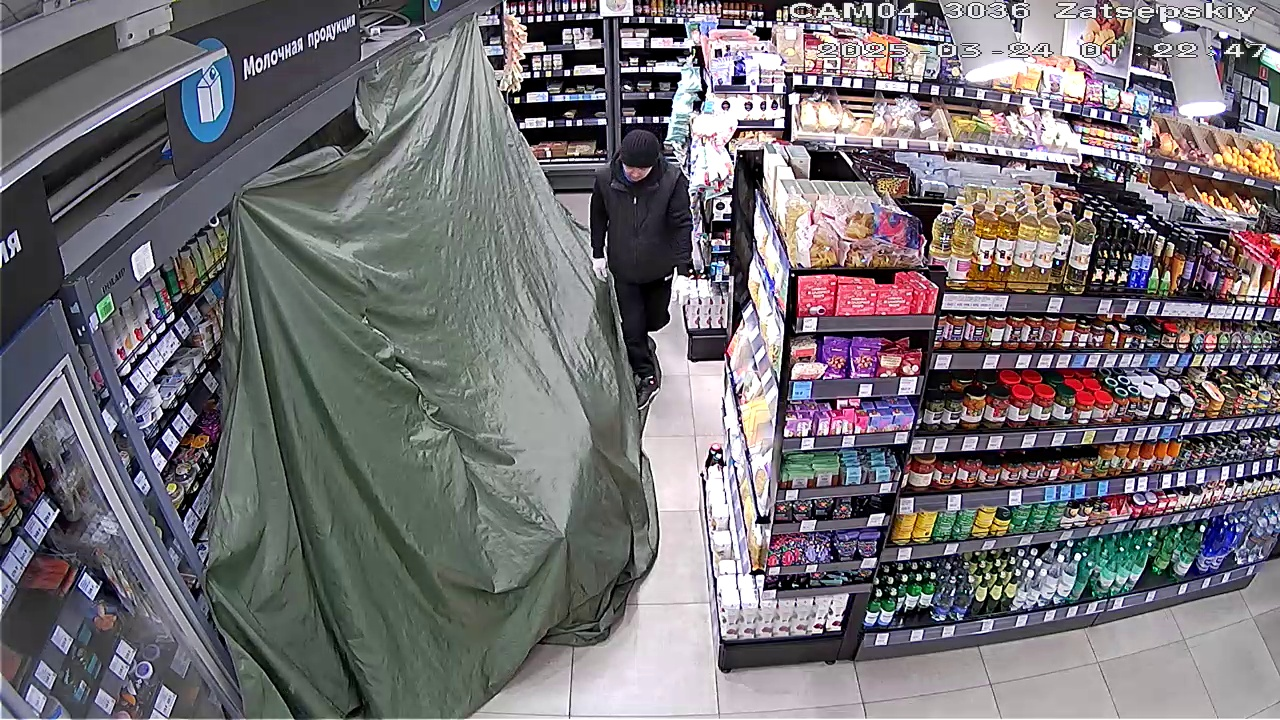Human: (572, 125, 695, 404)
dome: (190, 26, 659, 719)
